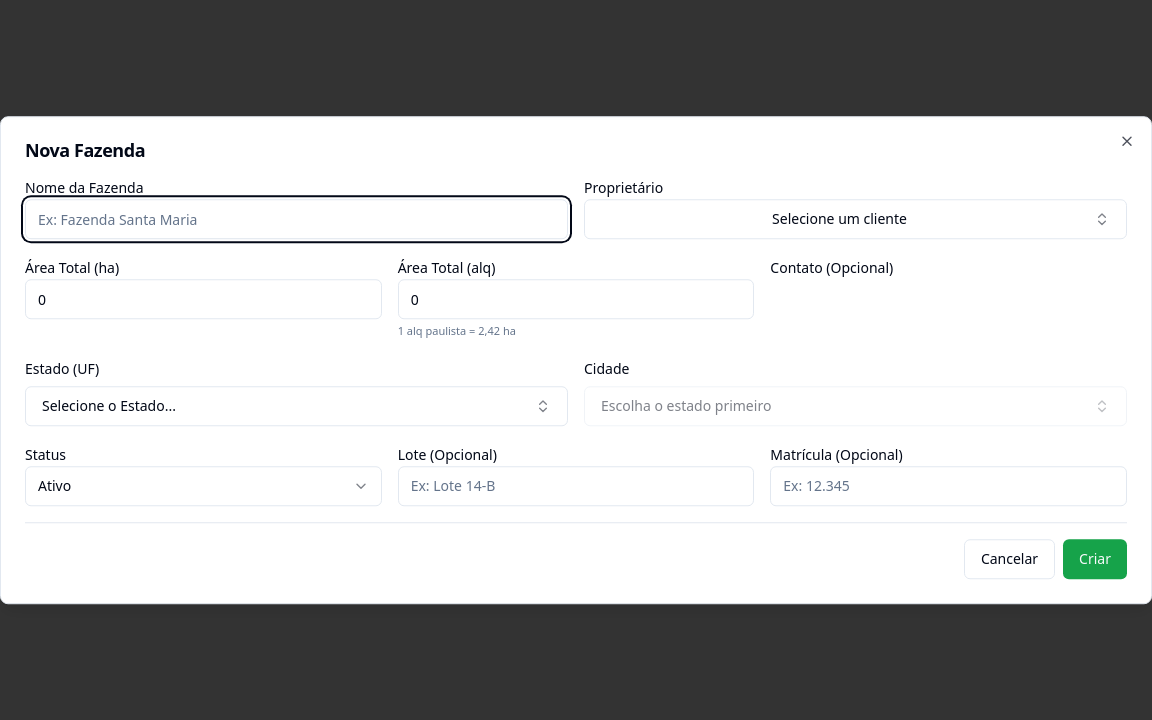
Scenario: FarmForm › recalculates hectares when alqueires is entered
This screenshot has width=1152, height=720.
Replace the text in the number field labelled "Área Total (alq)" with "20": (576, 299) [398, 279, 754, 319]
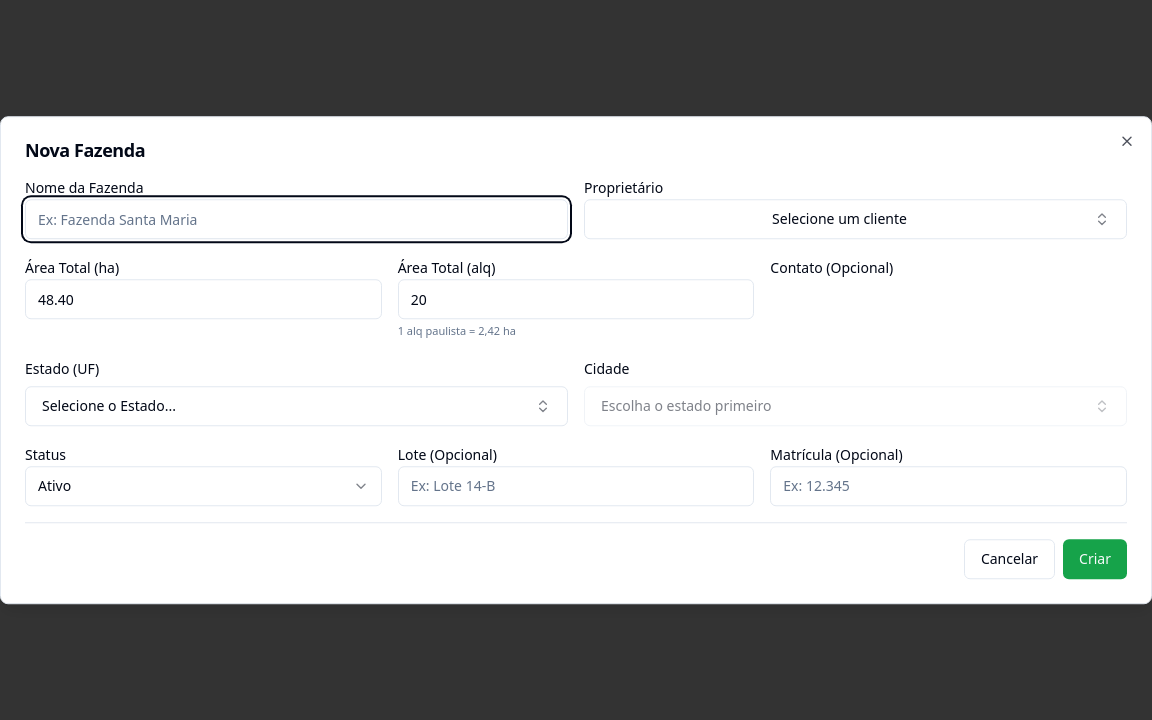
Now the number field labelled "Área Total (ha)" holds "48.4", box [25, 279, 382, 319]
